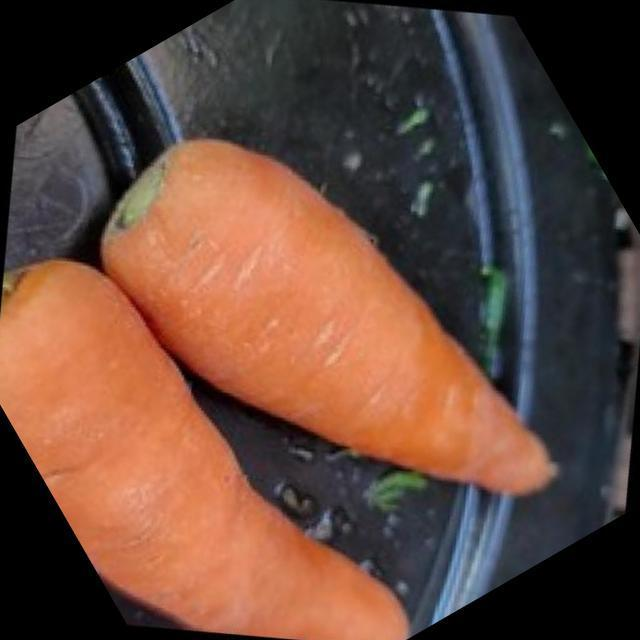Carrot: (102, 140, 552, 493), (0, 261, 406, 640)
